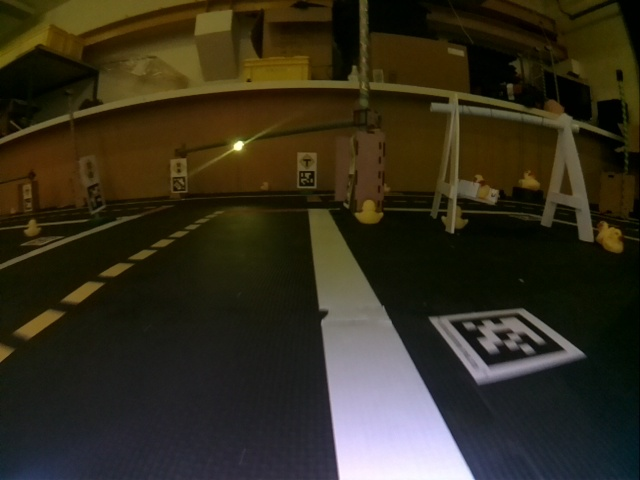Duckie: (356, 200, 382, 224), (442, 206, 466, 227), (473, 174, 490, 199), (604, 230, 623, 252), (520, 170, 539, 190), (596, 221, 610, 242), (26, 220, 40, 235), (261, 182, 270, 191)
Intersection sign: (298, 153, 316, 169)
QR code: (430, 309, 584, 383), (86, 187, 104, 209), (300, 171, 316, 187), (172, 177, 186, 191)
Signal sign: (83, 161, 97, 181), (172, 160, 184, 174)
Traffic light: (233, 142, 245, 152)
